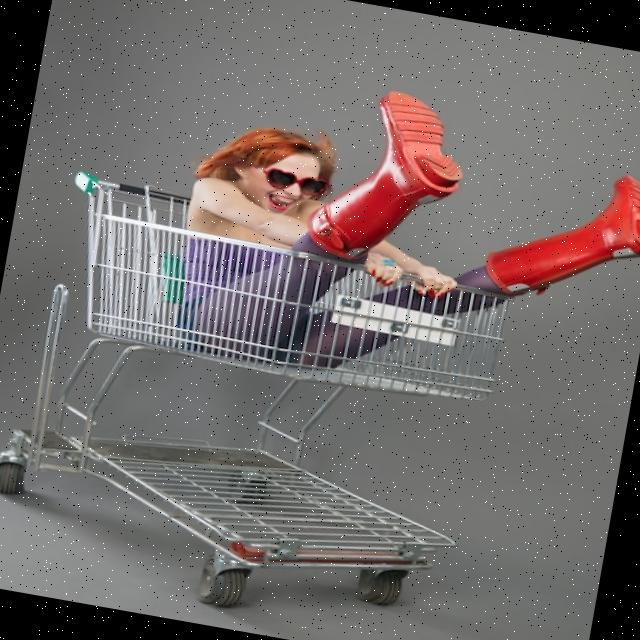Person: (162, 57, 640, 424)
